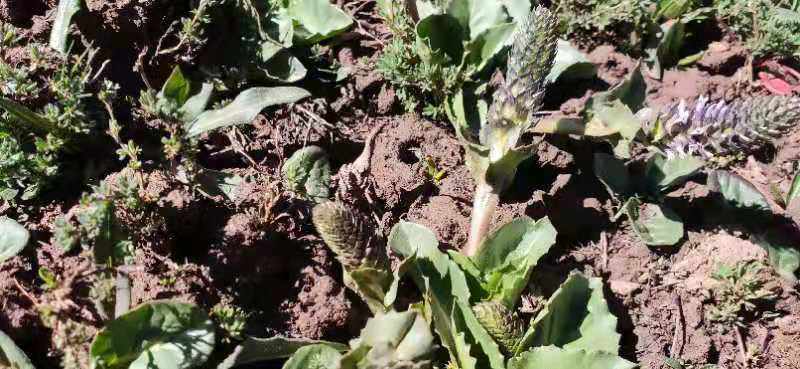cpf: (352, 121, 388, 172)
